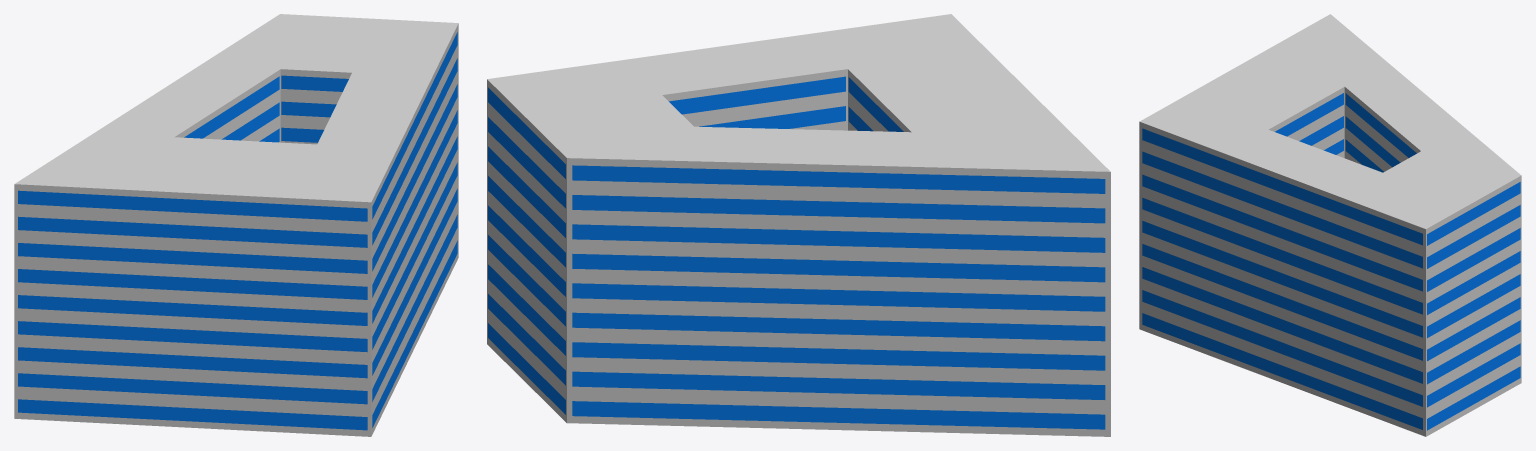
3 views of the same model, side by side, from view 1: azimuth 30°, elevation 25°; view 2: azimuth 150°, elevation 25°; view 3: azimuth 270°, elevation 25° (orthographic). The views are drawn at different scales.
Parts seen in each view (by area): view 1: node0 (×2); view 2: node0 (×2); view 3: node0 (×2).
Boxes of the visible parts, box(x1,y1,x2,y2) form: node0 (×2): box(14, 14, 458, 436); node0 (×2): box(487, 14, 1110, 436); node0 (×2): box(1139, 14, 1521, 436).
Size of the model in its own units: 80 by 60 by 36.
